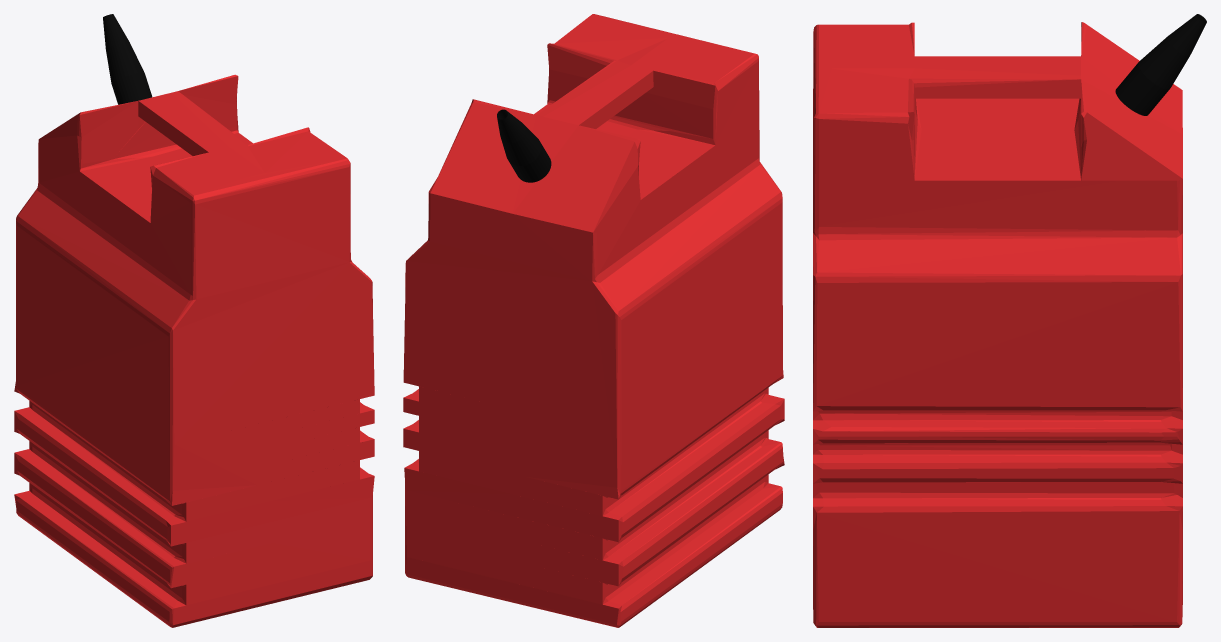
The model's file is petrol.glb.
3 views of the same model, side by side, from view 1: azimuth 30°, elevation 25°; view 2: azimuth 150°, elevation 25°; view 3: azimuth 270°, elevation 25° (orthographic). The views are drawn at different scales.
Parts seen in each view (by area): view 1: Cube, Cylinder; view 2: Cube, Cylinder; view 3: Cube, Cylinder.
Part boxes in pixels (left/top/right/bottom): Cube: left=14, top=74, right=374, bottom=627; Cylinder: left=103, top=14, right=152, bottom=104; Cube: left=403, top=14, right=784, bottom=627; Cylinder: left=497, top=109, right=551, bottom=182; Cube: left=813, top=22, right=1182, bottom=627; Cylinder: left=1115, top=14, right=1206, bottom=115.
Size of the model in its own units: 0.15 by 0.332 by 0.213.
